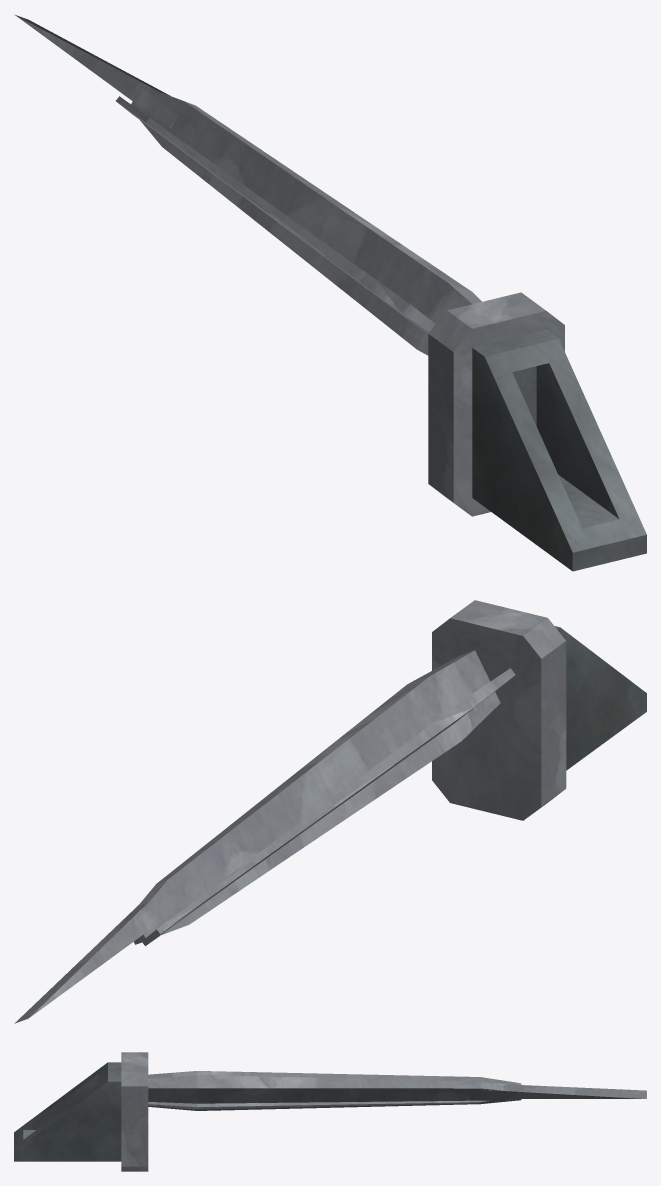
The model's file is Bayonet.obj.
3 views of the same model, one above another, from view 1: azimuth 30°, elevation 25°; view 2: azimuth 150°, elevation 25°; view 3: azimuth 270°, elevation 25° (orthographic). The views are drawn at different scales.
Visible parts, largest first — view 1: engine_slant%, propeller_large, rudder_simple; view 2: engine_slant%, propeller_large, rudder_simple; view 3: propeller_large, engine_slant%, rudder_simple.
Part boxes in pixels (left/top/right/bottom): engine_slant%: left=428, top=292, right=646, bottom=571; propeller_large: left=116, top=85, right=481, bottom=355; rudder_simple: left=14, top=14, right=177, bottom=128; engine_slant%: left=432, top=600, right=646, bottom=820; propeller_large: left=134, top=650, right=515, bottom=945; rudder_simple: left=14, top=893, right=181, bottom=1023; propeller_large: left=148, top=1071, right=521, bottom=1110; engine_slant%: left=14, top=1052, right=148, bottom=1171; rudder_simple: left=481, top=1084, right=646, bottom=1098.
Bounding box in the file's own units: 0.108 × 0.1742 × 0.9979.
3 materials, 3 textured.
